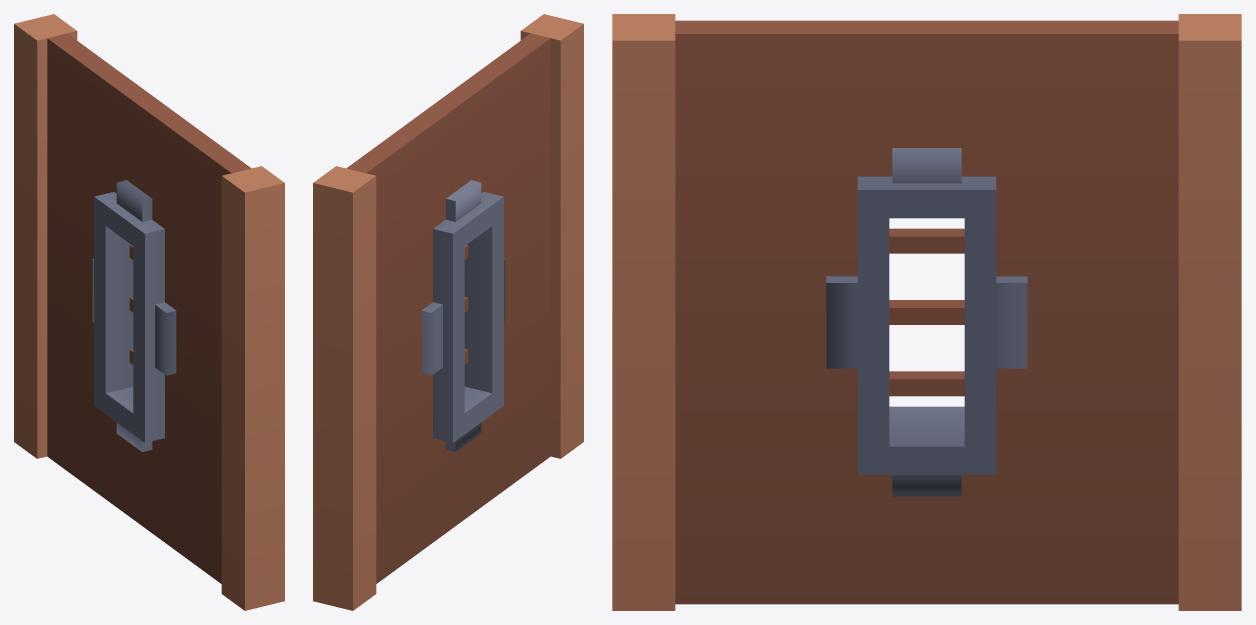
The model's file is wall_wood_window_stone.glb.
3 renders of one model, left to right at view 1: azimuth 30°, elevation 25°; view 2: azimuth 150°, elevation 25°; view 3: azimuth 270°, elevation 25°, orthographic. The views are drawn at different scales.
Visible parts, largest first — view 1: wall-wood-window-stone; view 2: wall-wood-window-stone; view 3: wall-wood-window-stone.
Part boxes in pixels (x1,y1,x2,y2): wall-wood-window-stone: [14, 14, 284, 610]; wall-wood-window-stone: [313, 14, 583, 610]; wall-wood-window-stone: [612, 14, 1241, 610].
Bounding box in the file's own units: 0.15 × 1 × 1.
Materials: 1 (1 with a texture image).
